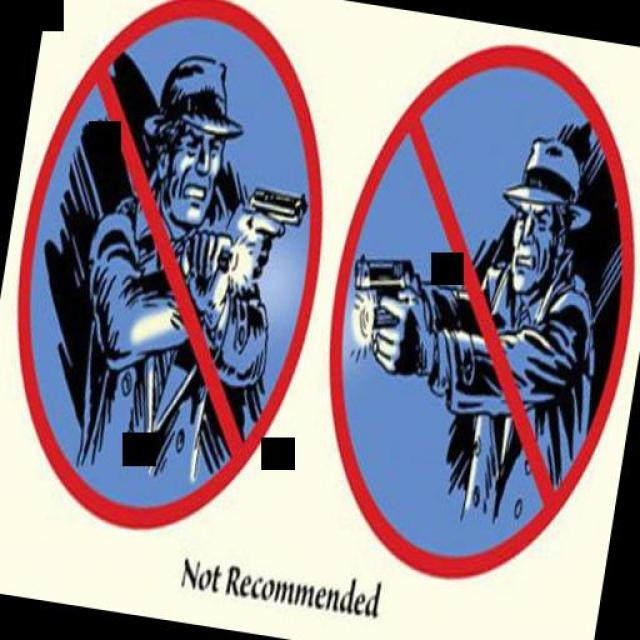gun: (331, 246, 444, 369), (218, 170, 308, 324)
